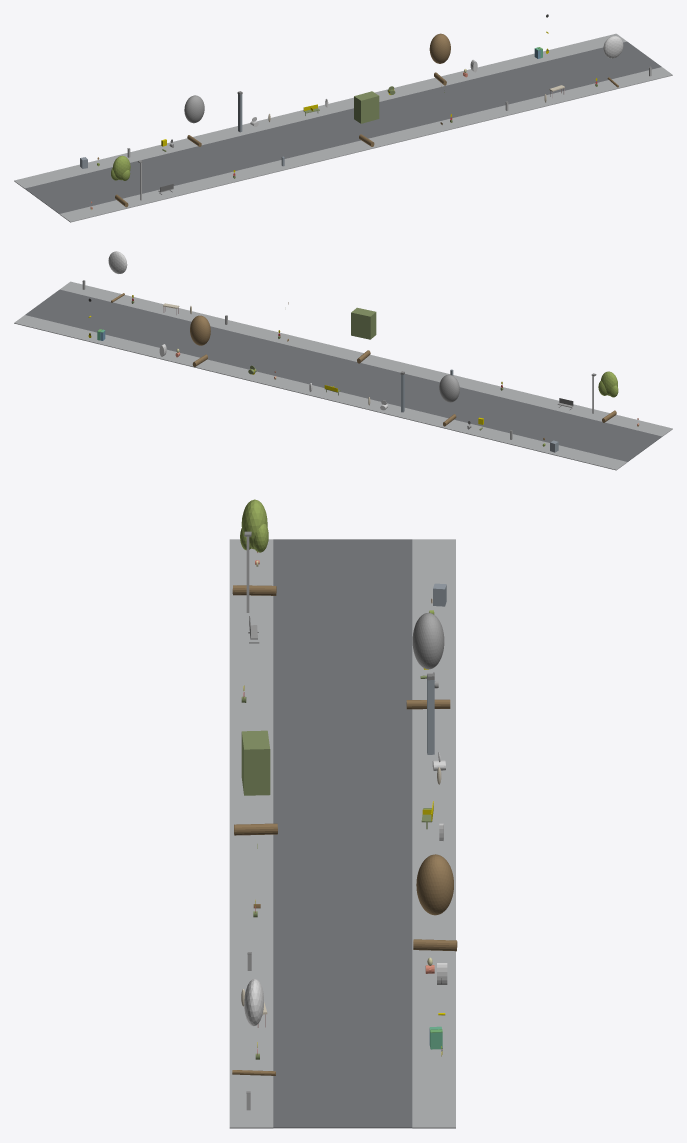
3 renders of one model, top to bottom at view 1: azimuth 30°, elevation 25°; view 2: azimuth 150°, elevation 25°; view 3: azimuth 270°, elevation 25°, orthographic. The views are drawn at different scales.
Visible parts, largest first — view 1: road_slab, sidewalk_left, sidewalk_right, inst_0014, inst_0015, inst_0013, inst_0012, inst_0016; view 2: road_slab, sidewalk_right, sidewalk_left, inst_0014, inst_0015, inst_0013, inst_0012, inst_0016; view 3: road_slab, sidewalk_left, sidewalk_right, inst_0014, inst_0015, inst_0013, inst_0012, inst_0016.
Part boxes in pixels (x1,y1,x2,y2): road_slab: [25, 41, 661, 213]; sidewalk_left: [59, 67, 672, 222]; sidewalk_right: [14, 33, 626, 188]; inst_0014: [354, 91, 379, 146]; inst_0015: [429, 33, 450, 85]; inst_0013: [184, 95, 204, 146]; inst_0012: [111, 155, 130, 207]; inst_0016: [603, 36, 623, 87]; road_slab: [25, 289, 661, 461]; sidewalk_right: [14, 315, 627, 470]; sidewalk_left: [60, 281, 672, 436]; inst_0014: [351, 307, 376, 363]; inst_0015: [190, 315, 210, 367]; inst_0013: [439, 374, 459, 426]; inst_0012: [598, 371, 618, 422]; inst_0016: [108, 251, 127, 302]; road_slab: [273, 539, 412, 1128]; sidewalk_left: [229, 539, 273, 1128]; sidewalk_right: [412, 539, 455, 1128]; inst_0014: [234, 730, 277, 835]; inst_0015: [413, 854, 457, 951]; inst_0013: [406, 612, 450, 709]; inst_0012: [232, 499, 276, 595]; inst_0016: [232, 979, 275, 1075].
Size of the model in its own units: 80 by 6.08 by 13.08.
